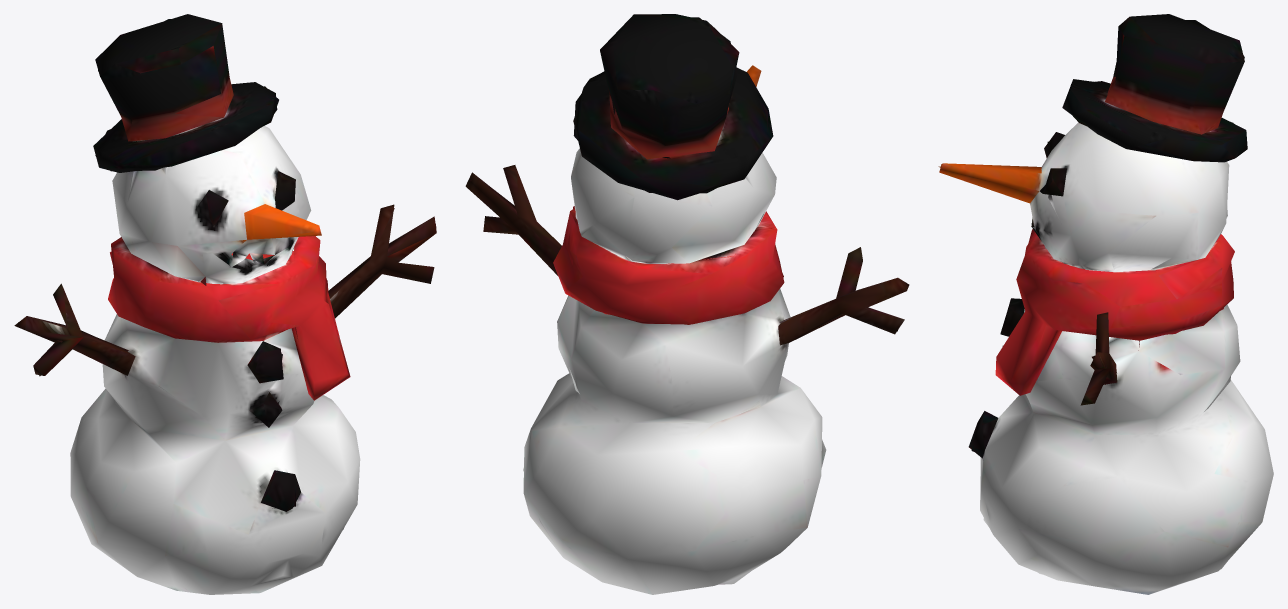
The model's file is lg-snowman.glb.
3 views of the same model, side by side, from view 1: azimuth 30°, elevation 25°; view 2: azimuth 150°, elevation 25°; view 3: azimuth 270°, elevation 25° (orthographic). The views are drawn at different scales.
Parts seen in each view (by area): view 1: geometry_0; view 2: geometry_0; view 3: geometry_0.
Part boxes in pixels (x1,y1,x2,y2): geometry_0: (14, 14, 436, 594); geometry_0: (465, 14, 909, 594); geometry_0: (938, 14, 1273, 594).
Size of the model in its own units: 0.8457 by 1 by 0.5771.
Materials: 1 (1 with a texture image).
